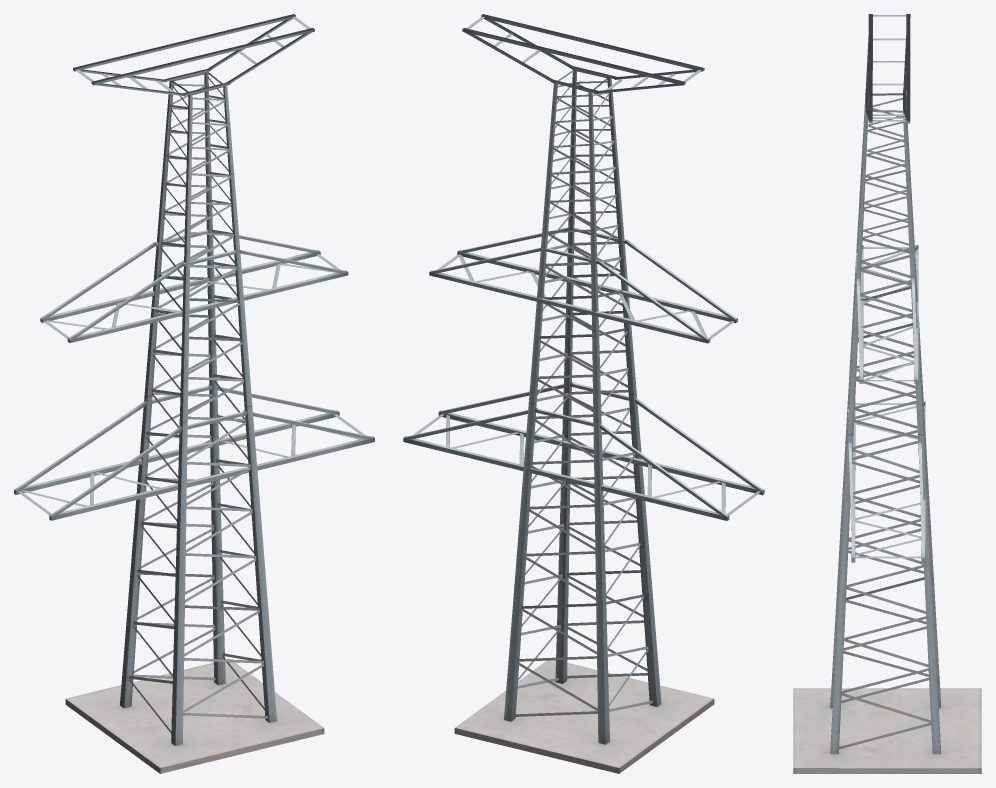
The model's file is electric_tower_1005_01.obj.
3 views of the same model, side by side, from view 1: azimuth 30°, elevation 25°; view 2: azimuth 150°, elevation 25°; view 3: azimuth 270°, elevation 25° (orthographic).
Bounding box in the file's own units: 98.3 × 194 × 49.86.
1 material, 1 textured.
